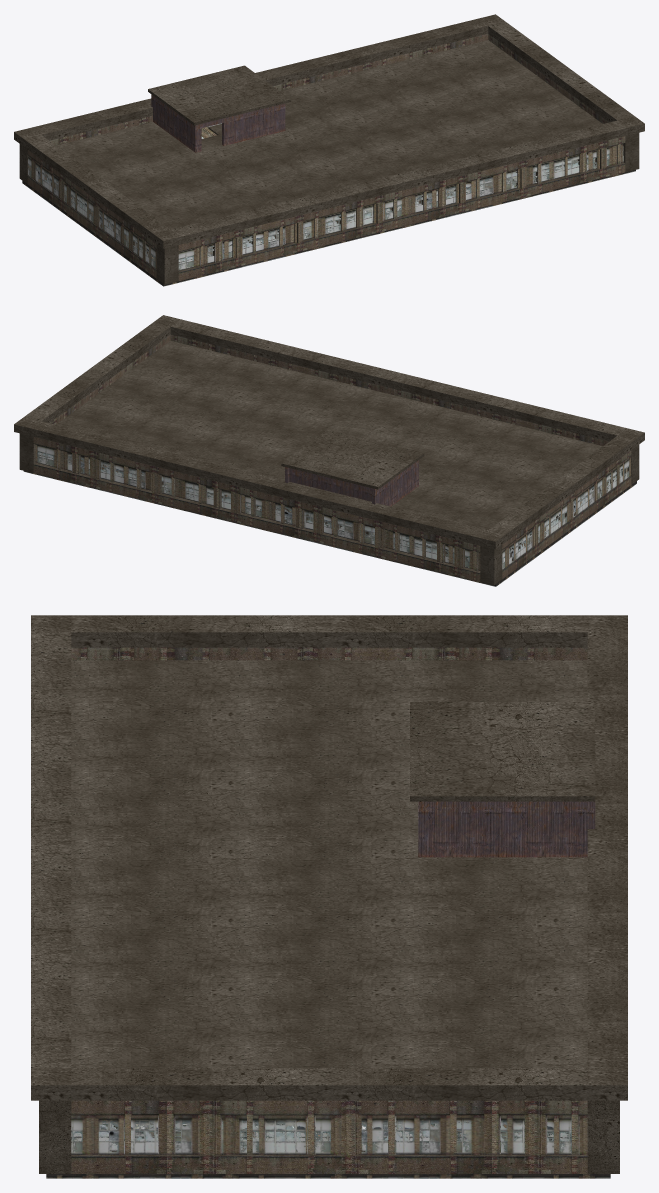
Rendered from BagSS08top_500.fbx.
3 renders of one model, top to bottom at view 1: azimuth 30°, elevation 25°; view 2: azimuth 150°, elevation 25°; view 3: azimuth 270°, elevation 25°, orthographic. The views are drawn at different scales.
Visible parts, largest first — view 1: topCrete200, topMain200, topBox200, topWalls200; view 2: topCrete200, topMain200, topBox200, topWalls200; view 3: topCrete200, topMain200, topBox200, topWalls200.
Part boxes in pixels (<box>): topCrete200: <box>14,14,644,284</box>; topMain200: <box>27,33,625,281</box>; topBox200: <box>22,123,635,286</box>; topWalls200: <box>151,94,285,152</box>; topCrete200: <box>14,315,644,585</box>; topMain200: <box>33,334,631,581</box>; topBox200: <box>23,444,636,586</box>; topWalls200: <box>285,460,418,506</box>; topCrete200: <box>31,615,627,1173</box>; topMain200: <box>71,647,587,1173</box>; topBox200: <box>46,1115,610,1178</box>; topWalls200: <box>418,801,595,857</box>.
Size of the model in its own units: 61.81 by 8.25 by 33.18.
